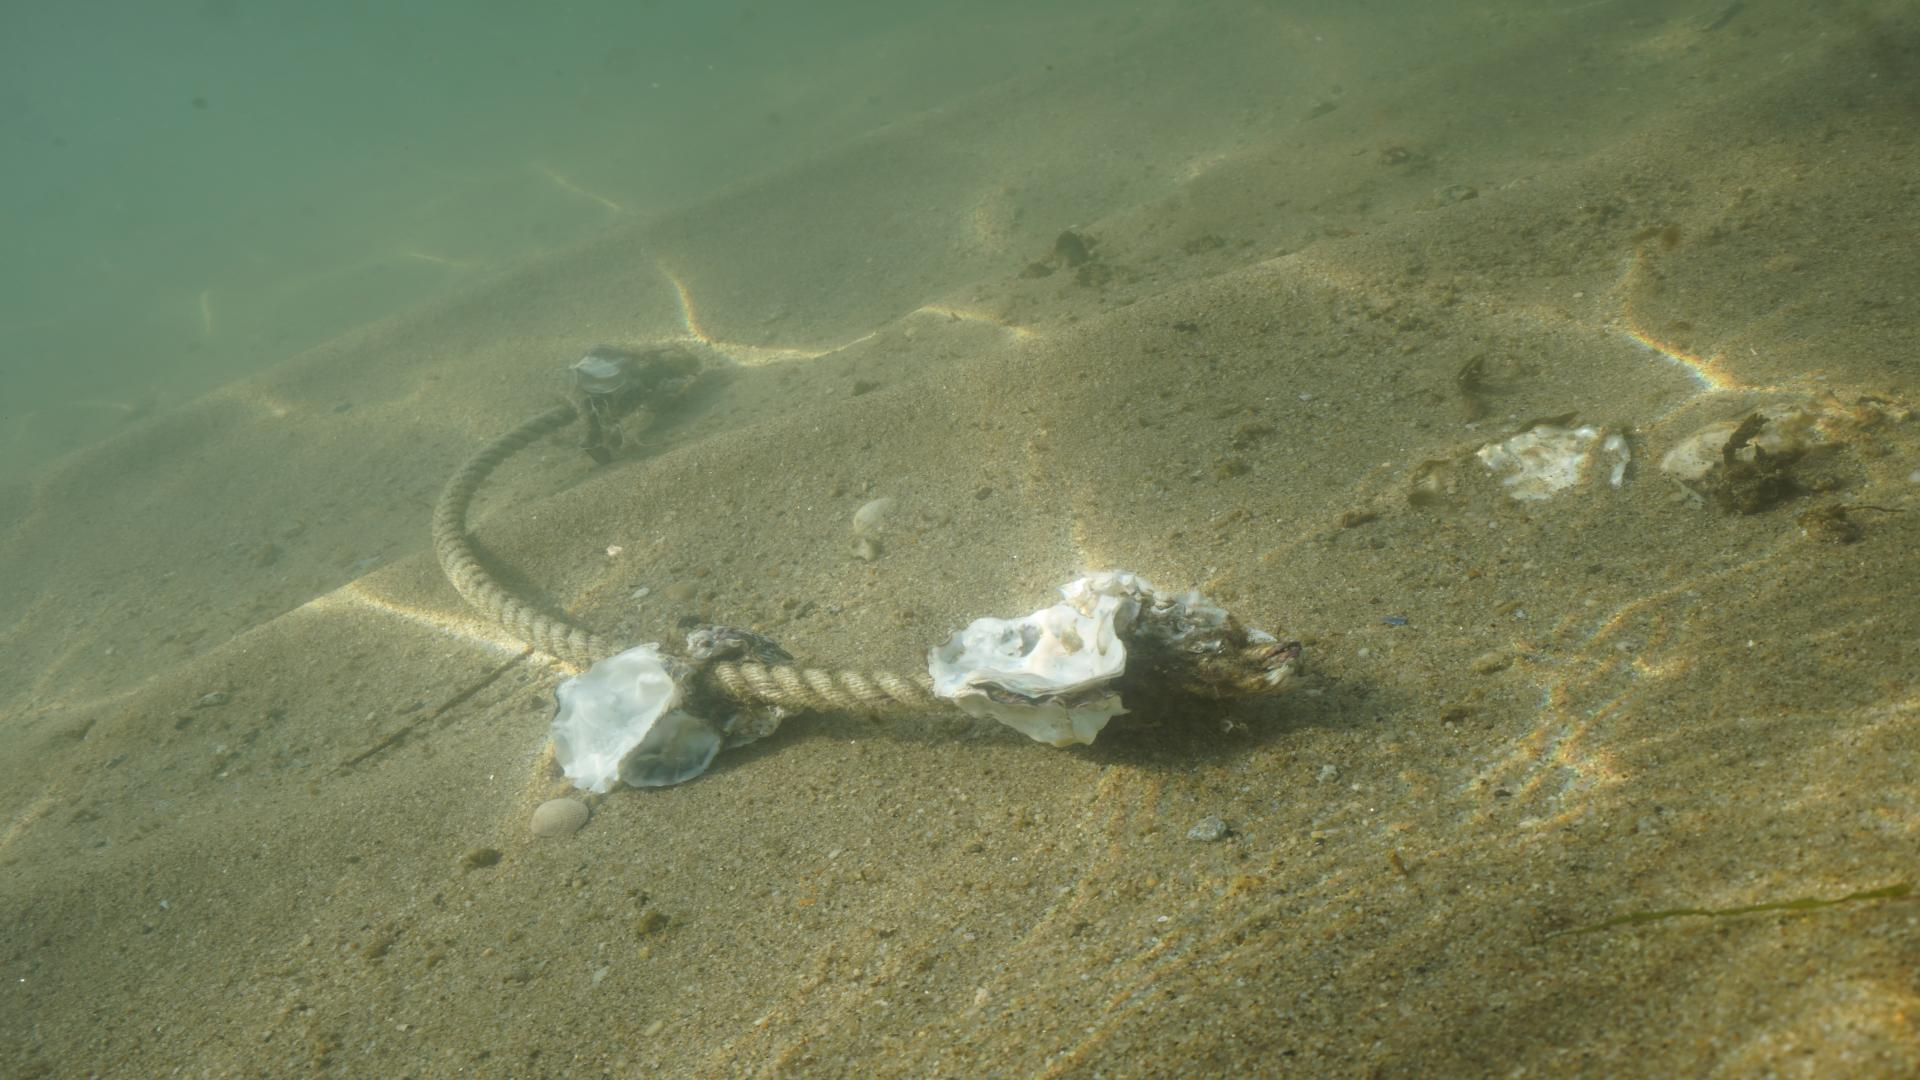rope: (425, 386, 1145, 723)
